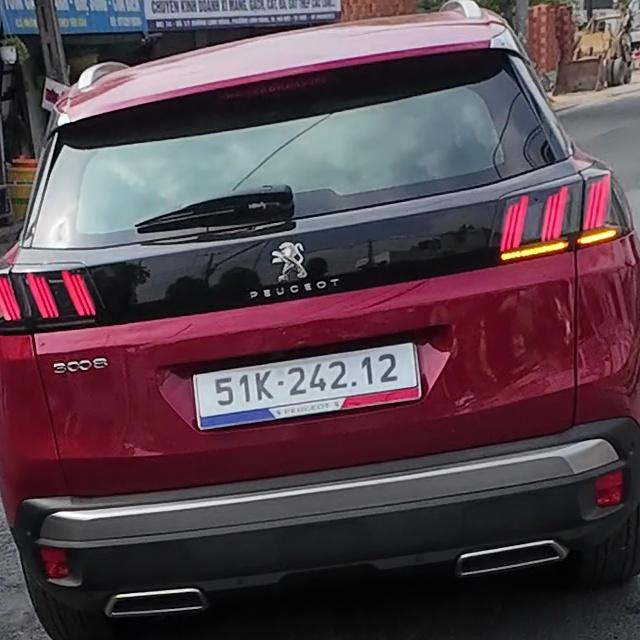license-plate: (195, 342, 418, 418)
